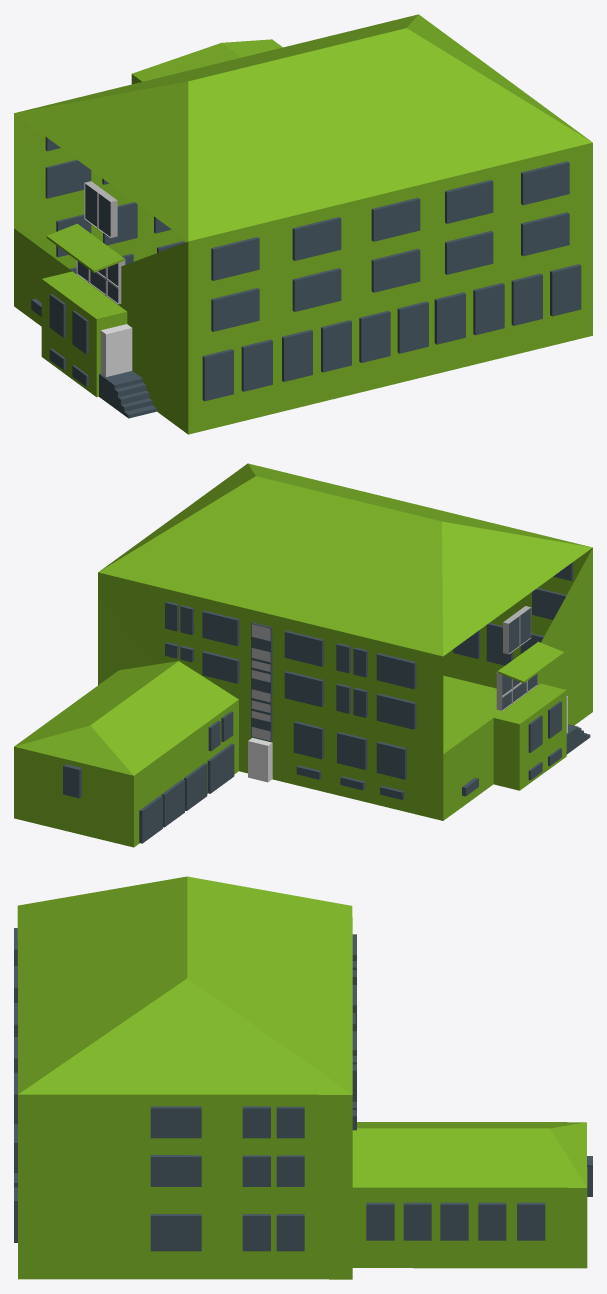
3 renders of one model, top to bottom at view 1: azimuth 30°, elevation 25°; view 2: azimuth 150°, elevation 25°; view 3: azimuth 270°, elevation 25°, orthographic. The views are drawn at different scales.
Parts seen in each view (by area): view 1: C16, Entrance; view 2: C16, Entrance.1; view 3: C16.
Part boxes in pixels (left/top/right/bottom): C16: left=14, top=14, right=592, bottom=434; Entrance: left=100, top=324, right=132, bottom=376; C16: left=14, top=463, right=592, bottom=847; Entrance.1: left=248, top=738, right=272, bottom=782; C16: left=14, top=876, right=592, bottom=1279.
Size of the model in its own units: 21.55 by 12.44 by 25.58.
